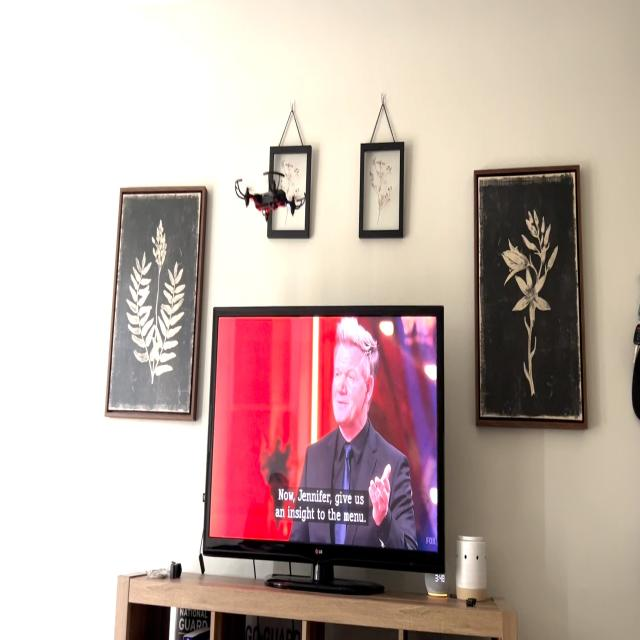drone: (224, 162, 315, 228)
